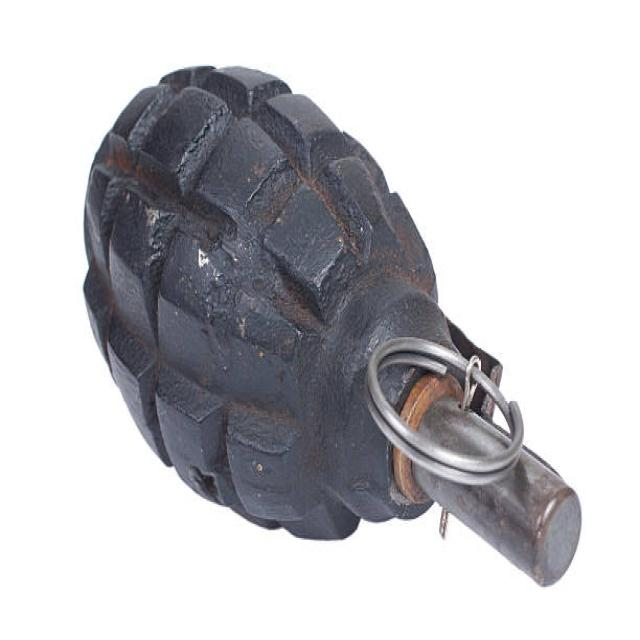grenade: (71, 43, 595, 604)
